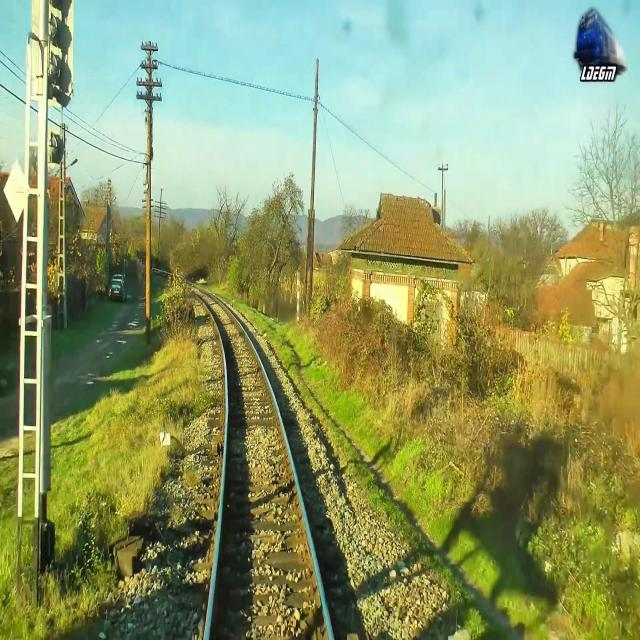rail-track: (179, 279, 329, 639)
